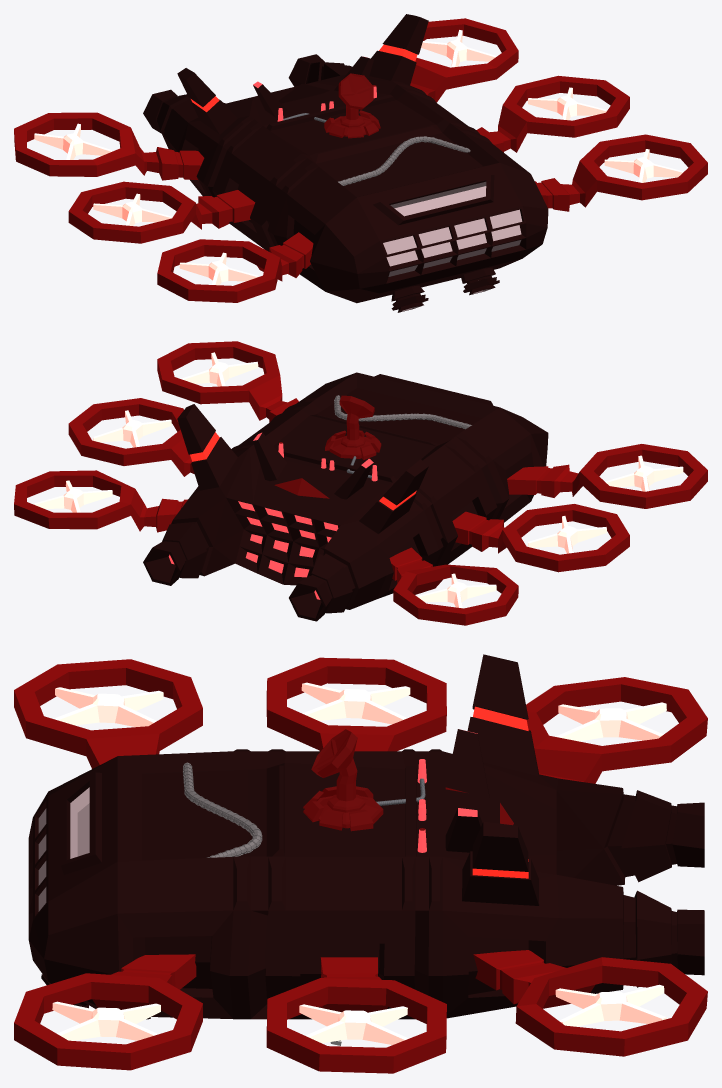
The model's file is Junk Drone Final UNITY.fbx.
3 renders of one model, top to bottom at view 1: azimuth 30°, elevation 25°; view 2: azimuth 150°, elevation 25°; view 3: azimuth 270°, elevation 25°, orthographic. The views are drawn at different scales.
Visible parts, largest first — view 1: Drone.007, Drone.011, Drone.008, Drone.010, Drone.020, Drone.012, Drone.009, Cabel 2.002; view 2: Drone.007, Drone.009, Drone.012, Drone.020, Drone.011, Drone.010, Drone.008, Cabel 2.002; view 3: Drone.007, Drone.010, Drone.011, Drone.012, Drone.009, Drone.020, Drone.008, Cabel 2.002.
Boxes of the visible parts, bbox=[...] form: Drone.007: bbox=[14, 14, 707, 312]; Drone.011: bbox=[34, 123, 112, 159]; Drone.008: bbox=[604, 149, 683, 182]; Drone.010: bbox=[421, 30, 496, 67]; Drone.020: bbox=[179, 252, 257, 285]; Drone.012: bbox=[93, 193, 171, 225]; Drone.009: bbox=[528, 87, 606, 120]; Cabel 2.002: bbox=[338, 136, 470, 185]; Drone.007: bbox=[14, 341, 707, 625]; Drone.009: bbox=[93, 410, 171, 447]; Drone.012: bbox=[528, 516, 606, 553]; Drone.020: bbox=[605, 455, 683, 491]; Drone.011: bbox=[417, 573, 496, 608]; Drone.010: bbox=[34, 480, 112, 512]; Drone.008: bbox=[181, 352, 258, 386]; Cabel 2.002: bbox=[334, 395, 471, 429]; Drone.007: bbox=[14, 654, 707, 1073]; Drone.010: bbox=[555, 984, 666, 1026]; Drone.011: bbox=[556, 702, 666, 741]; Drone.012: bbox=[301, 682, 410, 724]; Drone.009: bbox=[299, 1004, 408, 1044]; Drone.020: bbox=[53, 687, 163, 726]; Drone.008: bbox=[52, 1001, 160, 1040]; Cabel 2.002: bbox=[183, 762, 262, 857].
Bounding box in the file's own units: 10.21 × 3.36 × 7.55.
